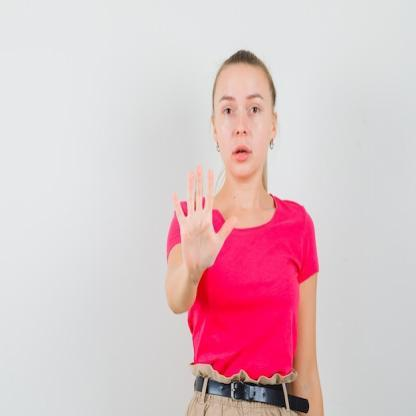stop: (170, 160, 240, 277)
